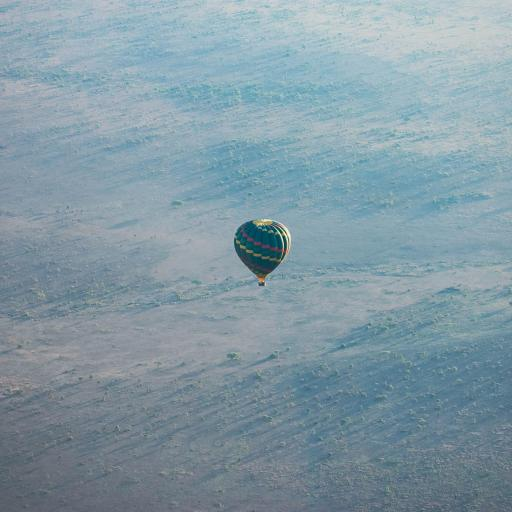hot air ballon: (230, 212, 295, 294)
